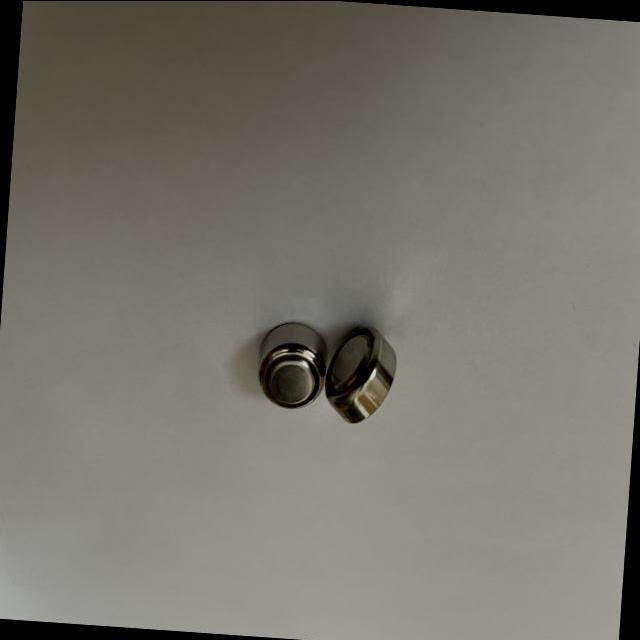COIN: (321, 322, 398, 428), (254, 321, 328, 412)
